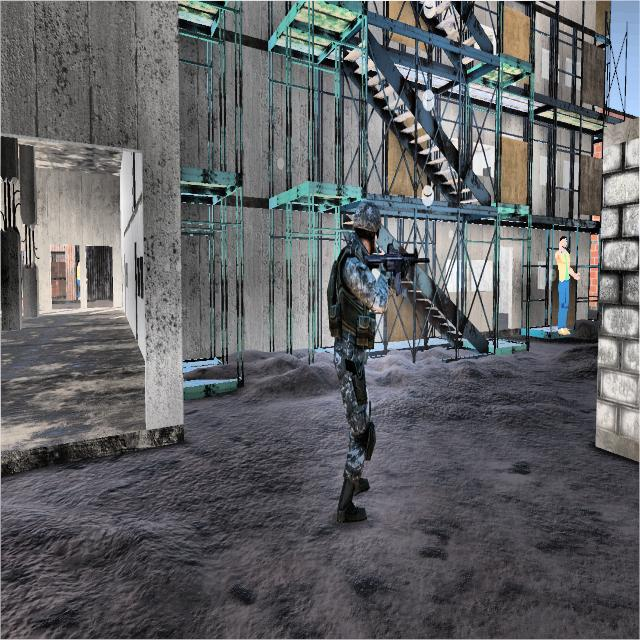bad: (318, 191, 431, 542)
good: (552, 231, 582, 343), (72, 253, 85, 310)
